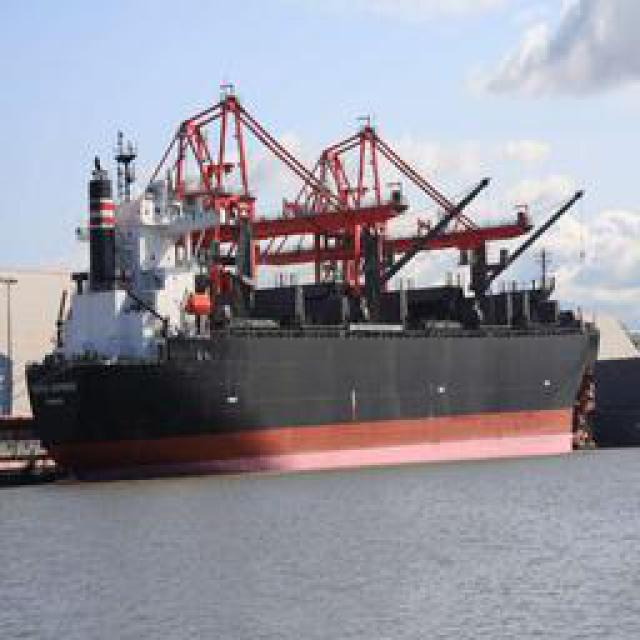Ship: (23, 76, 608, 476)
